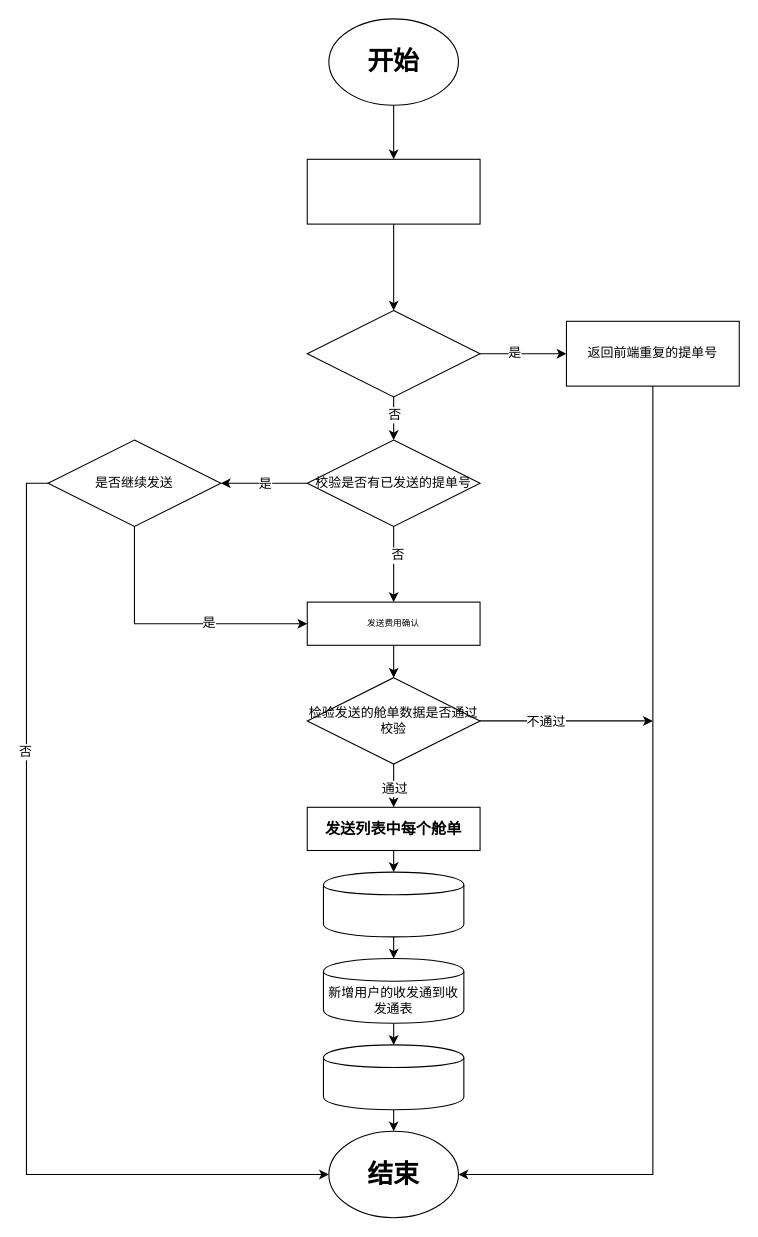
Some shapes in this 758 by 1237 pixel diagram are drawn without their labels. Here are the shapes that lost their labels. From the top down, the centre of each, then its label:
[393,191]: 接收要发送的舱单id列表
[393,353]: 校验是否有重复发送的提单号
[393,904]: 更新舱单表舱单发送状态
[393,1077]: 舱单扣除新增消费记录到消费记录表
